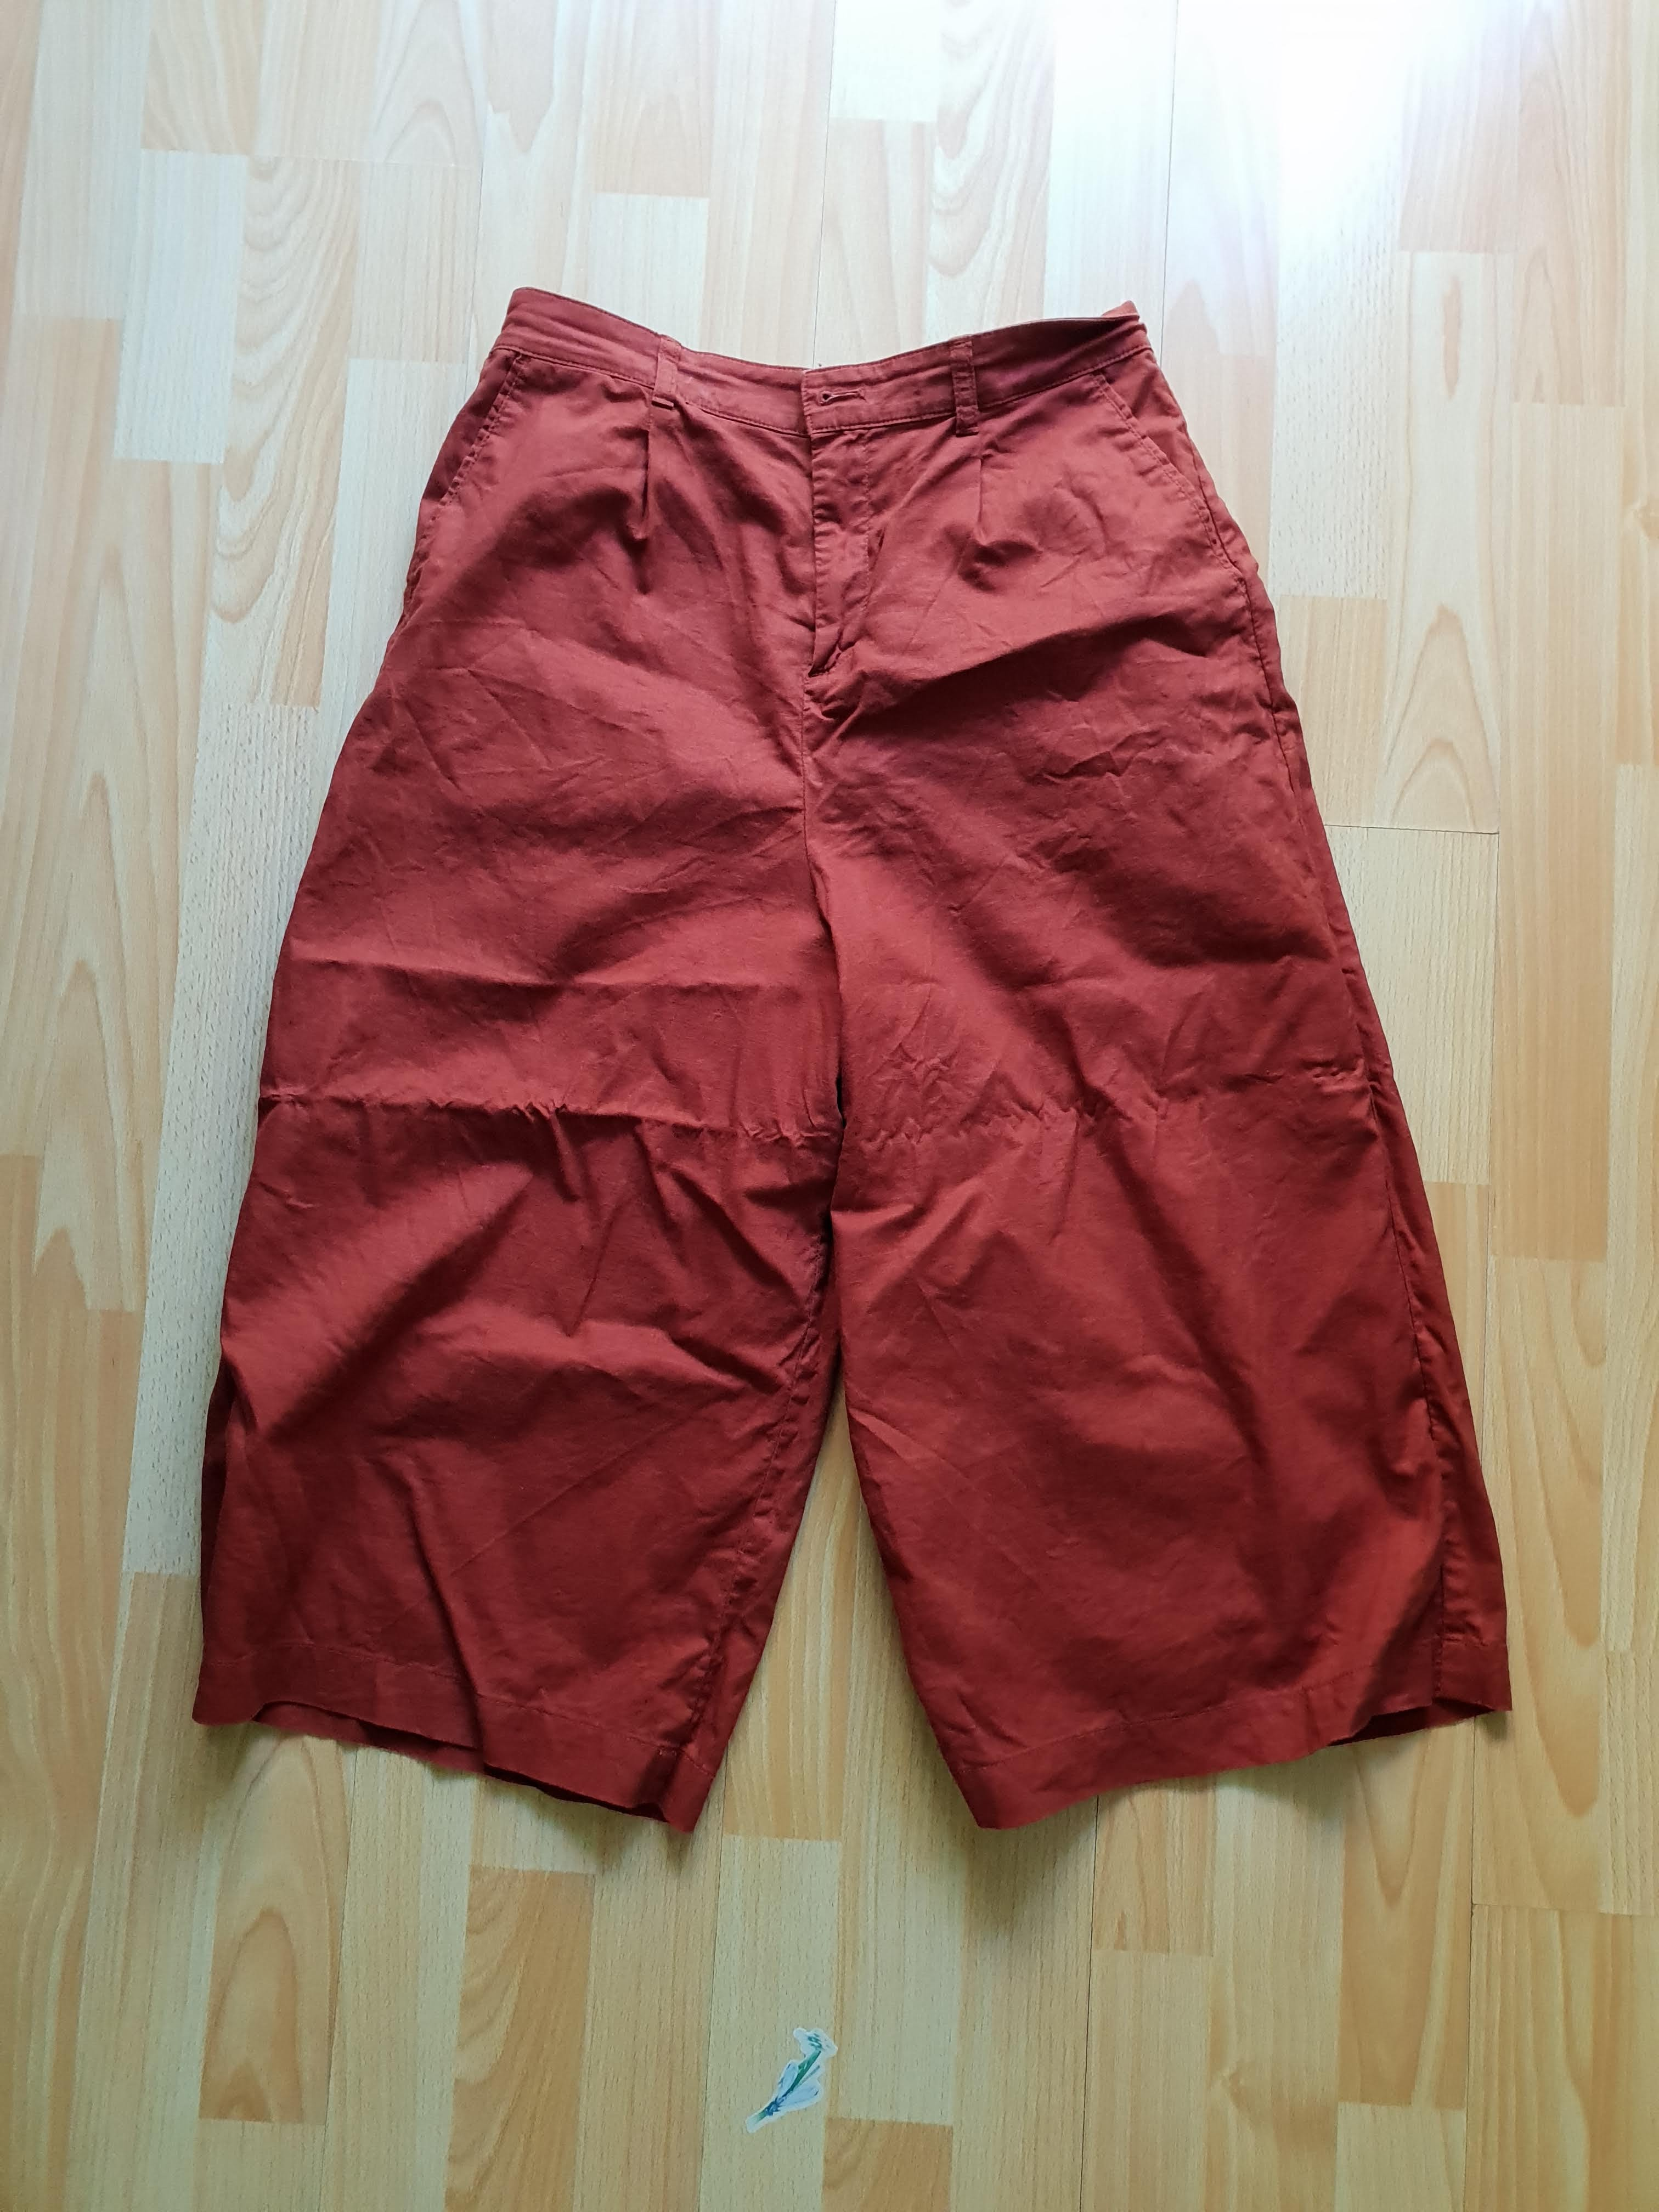clothes: (173, 277, 1561, 1804)
